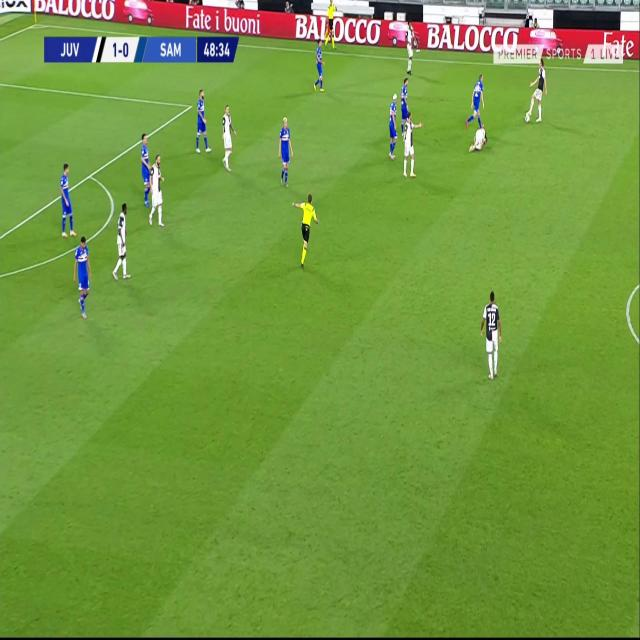ball: (524, 112, 531, 123)
player: (479, 288, 503, 380), (294, 190, 318, 268), (112, 200, 132, 282), (73, 232, 92, 317), (527, 54, 548, 122), (59, 159, 76, 238), (149, 152, 166, 228), (219, 102, 237, 171), (194, 85, 211, 154), (465, 74, 485, 132), (402, 110, 419, 178), (278, 114, 293, 185), (388, 90, 401, 157), (139, 131, 151, 203), (324, 0, 337, 49), (314, 41, 326, 94), (405, 21, 416, 74), (469, 124, 488, 154), (401, 77, 410, 124)
